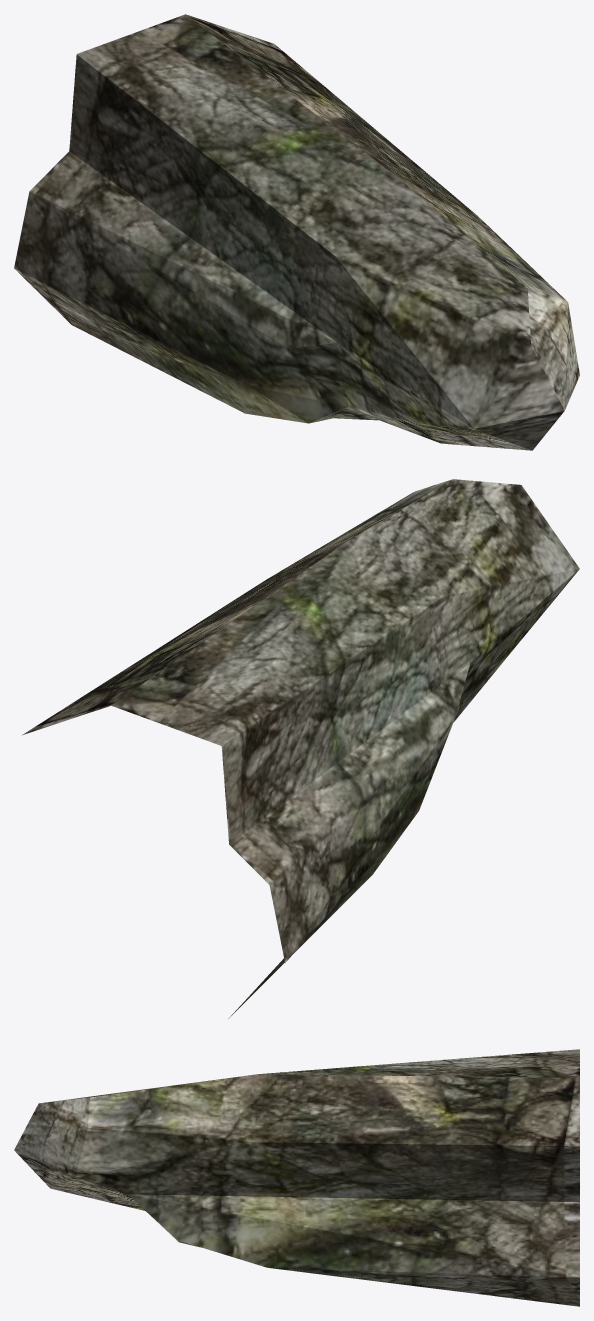
3 views of the same model, one above another, from view 1: azimuth 30°, elevation 25°; view 2: azimuth 150°, elevation 25°; view 3: azimuth 270°, elevation 25° (orthographic). The views are drawn at different scales.
Visible parts, largest first — view 1: model_Object58; view 2: model_Object58; view 3: model_Object58.
Part boxes in pixels (x1,y1,x2,y2): model_Object58: (14, 14, 579, 450); model_Object58: (22, 479, 579, 1018); model_Object58: (14, 1049, 579, 1306).
Bounding box in the file's own units: 2.65 × 2.81 × 6.72.
1 material, 1 textured.
